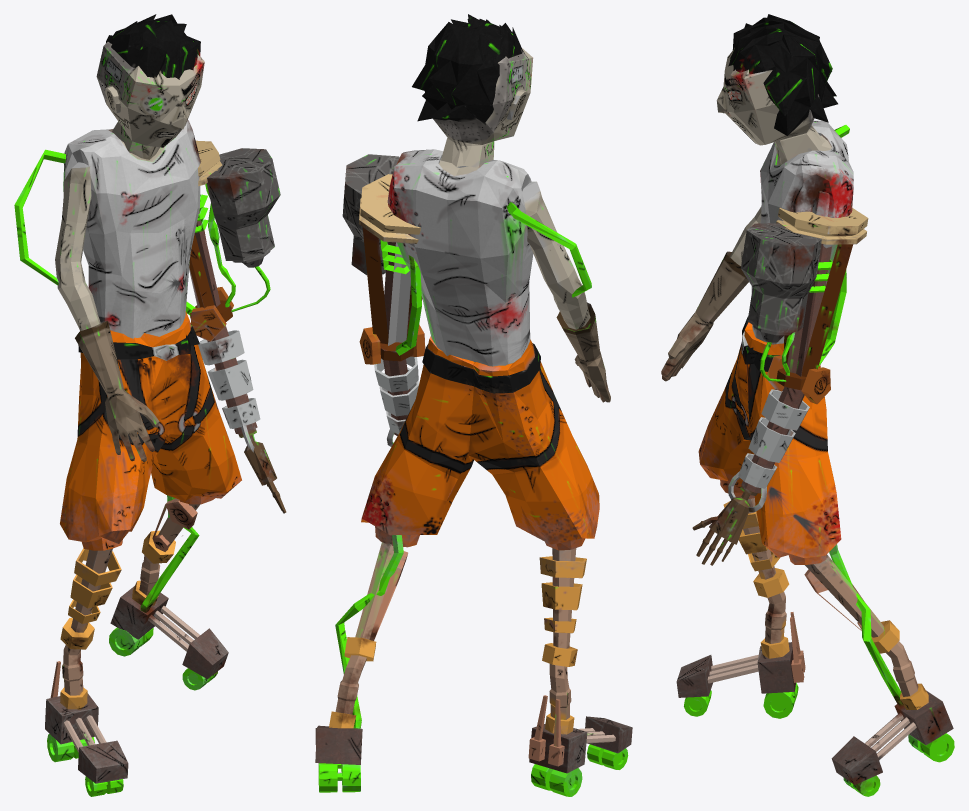
File: CyborgFINALAnimation_000166.obj
The picture shows the model from 3 angles, left to right: view 1: azimuth 30°, elevation 25°; view 2: azimuth 150°, elevation 25°; view 3: azimuth 270°, elevation 25°; orthographic projection. The views are drawn at different scales.
Visible parts, largest first — view 1: CyborgMesh_Cube.002; view 2: CyborgMesh_Cube.002; view 3: CyborgMesh_Cube.002.
Part boxes in pixels (box(x1,y1,x2,y2)): CyborgMesh_Cube.002: box(14, 14, 286, 796); CyborgMesh_Cube.002: box(315, 14, 632, 796); CyborgMesh_Cube.002: box(661, 14, 954, 796).
Bounding box in the file's own units: 3.43 × 9.64 × 3.5.
